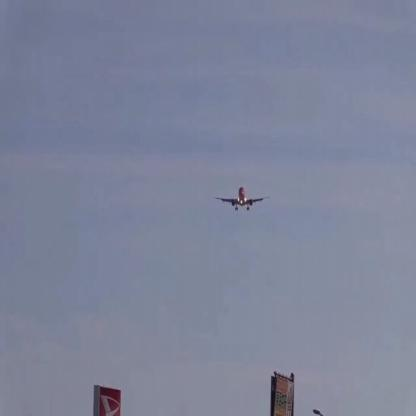CIV_Plane: (215, 187, 269, 212)
